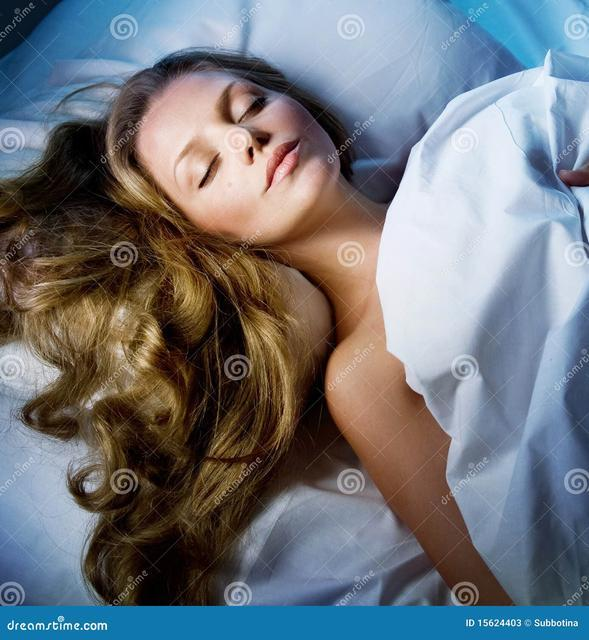sleep: (133, 68, 341, 248)
